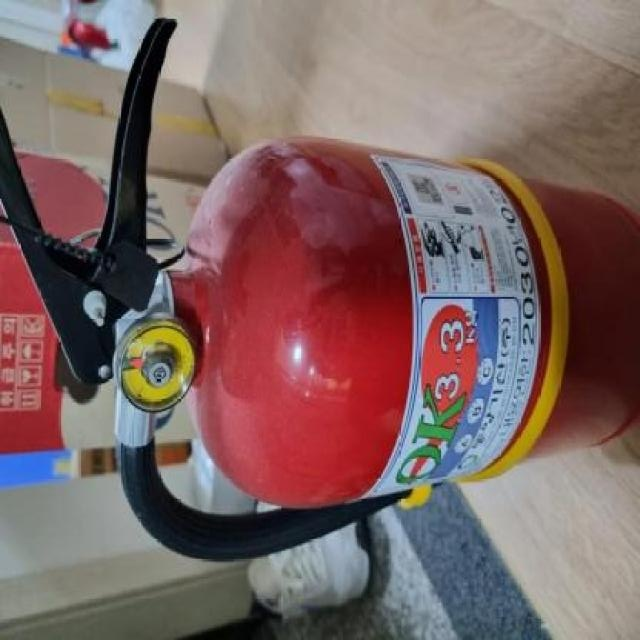fire extinguisher: (0, 17, 640, 560)
